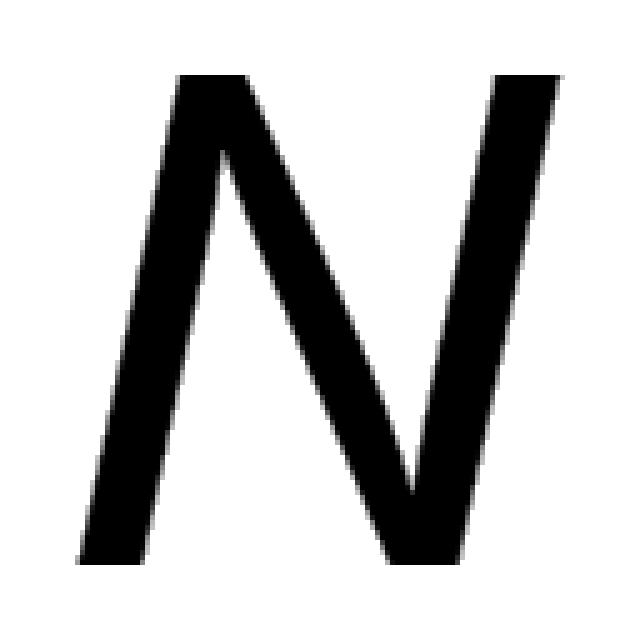N: (65, 60, 570, 575)
